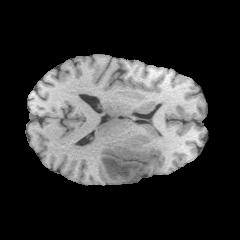glioma: (73, 148, 152, 183)
